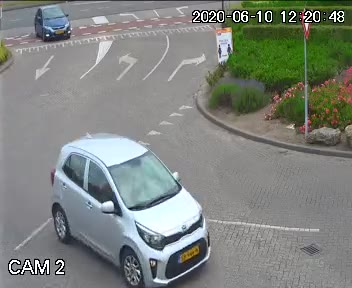car: (44, 125, 214, 284), (31, 3, 70, 45)
